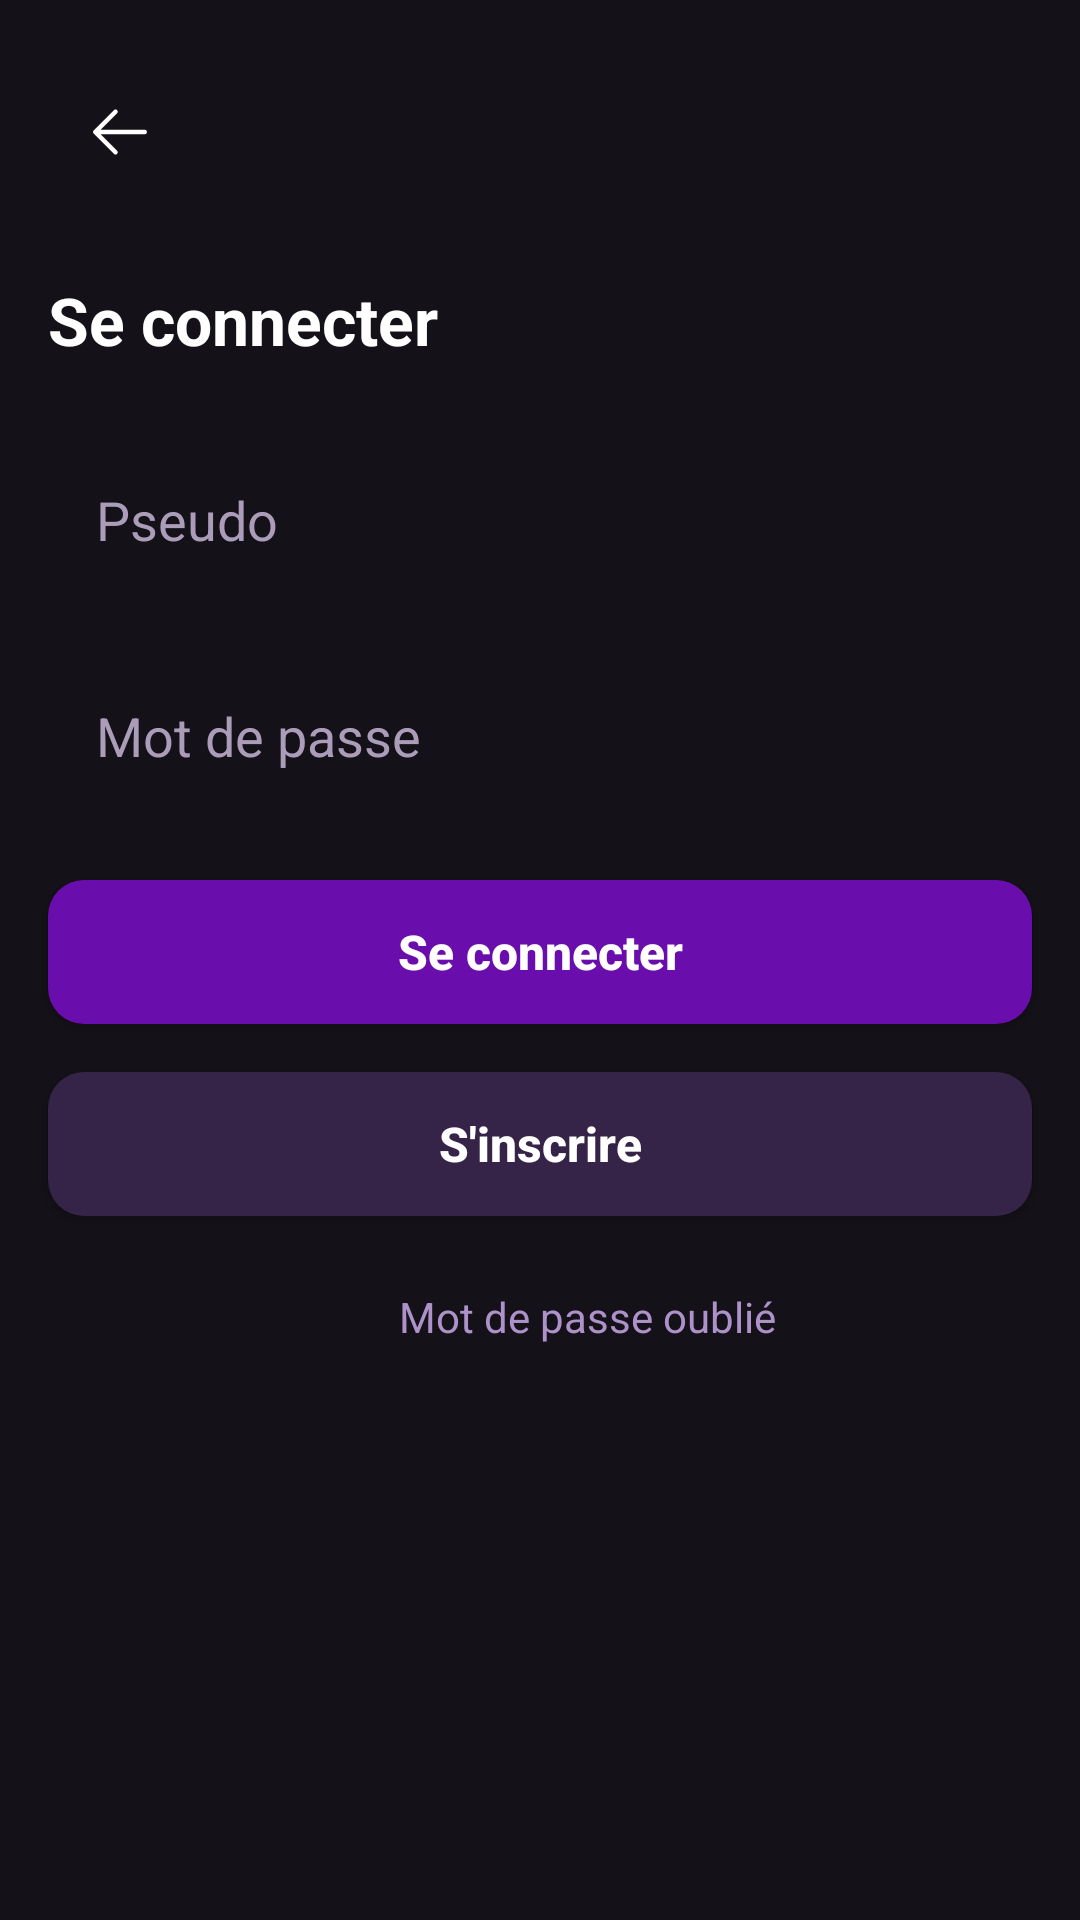

Named icons in this screenshot (1080 x 1920) and their bounding boxes, box(x1, y1, x2, y2):
Retour: box(93, 109, 147, 155)
